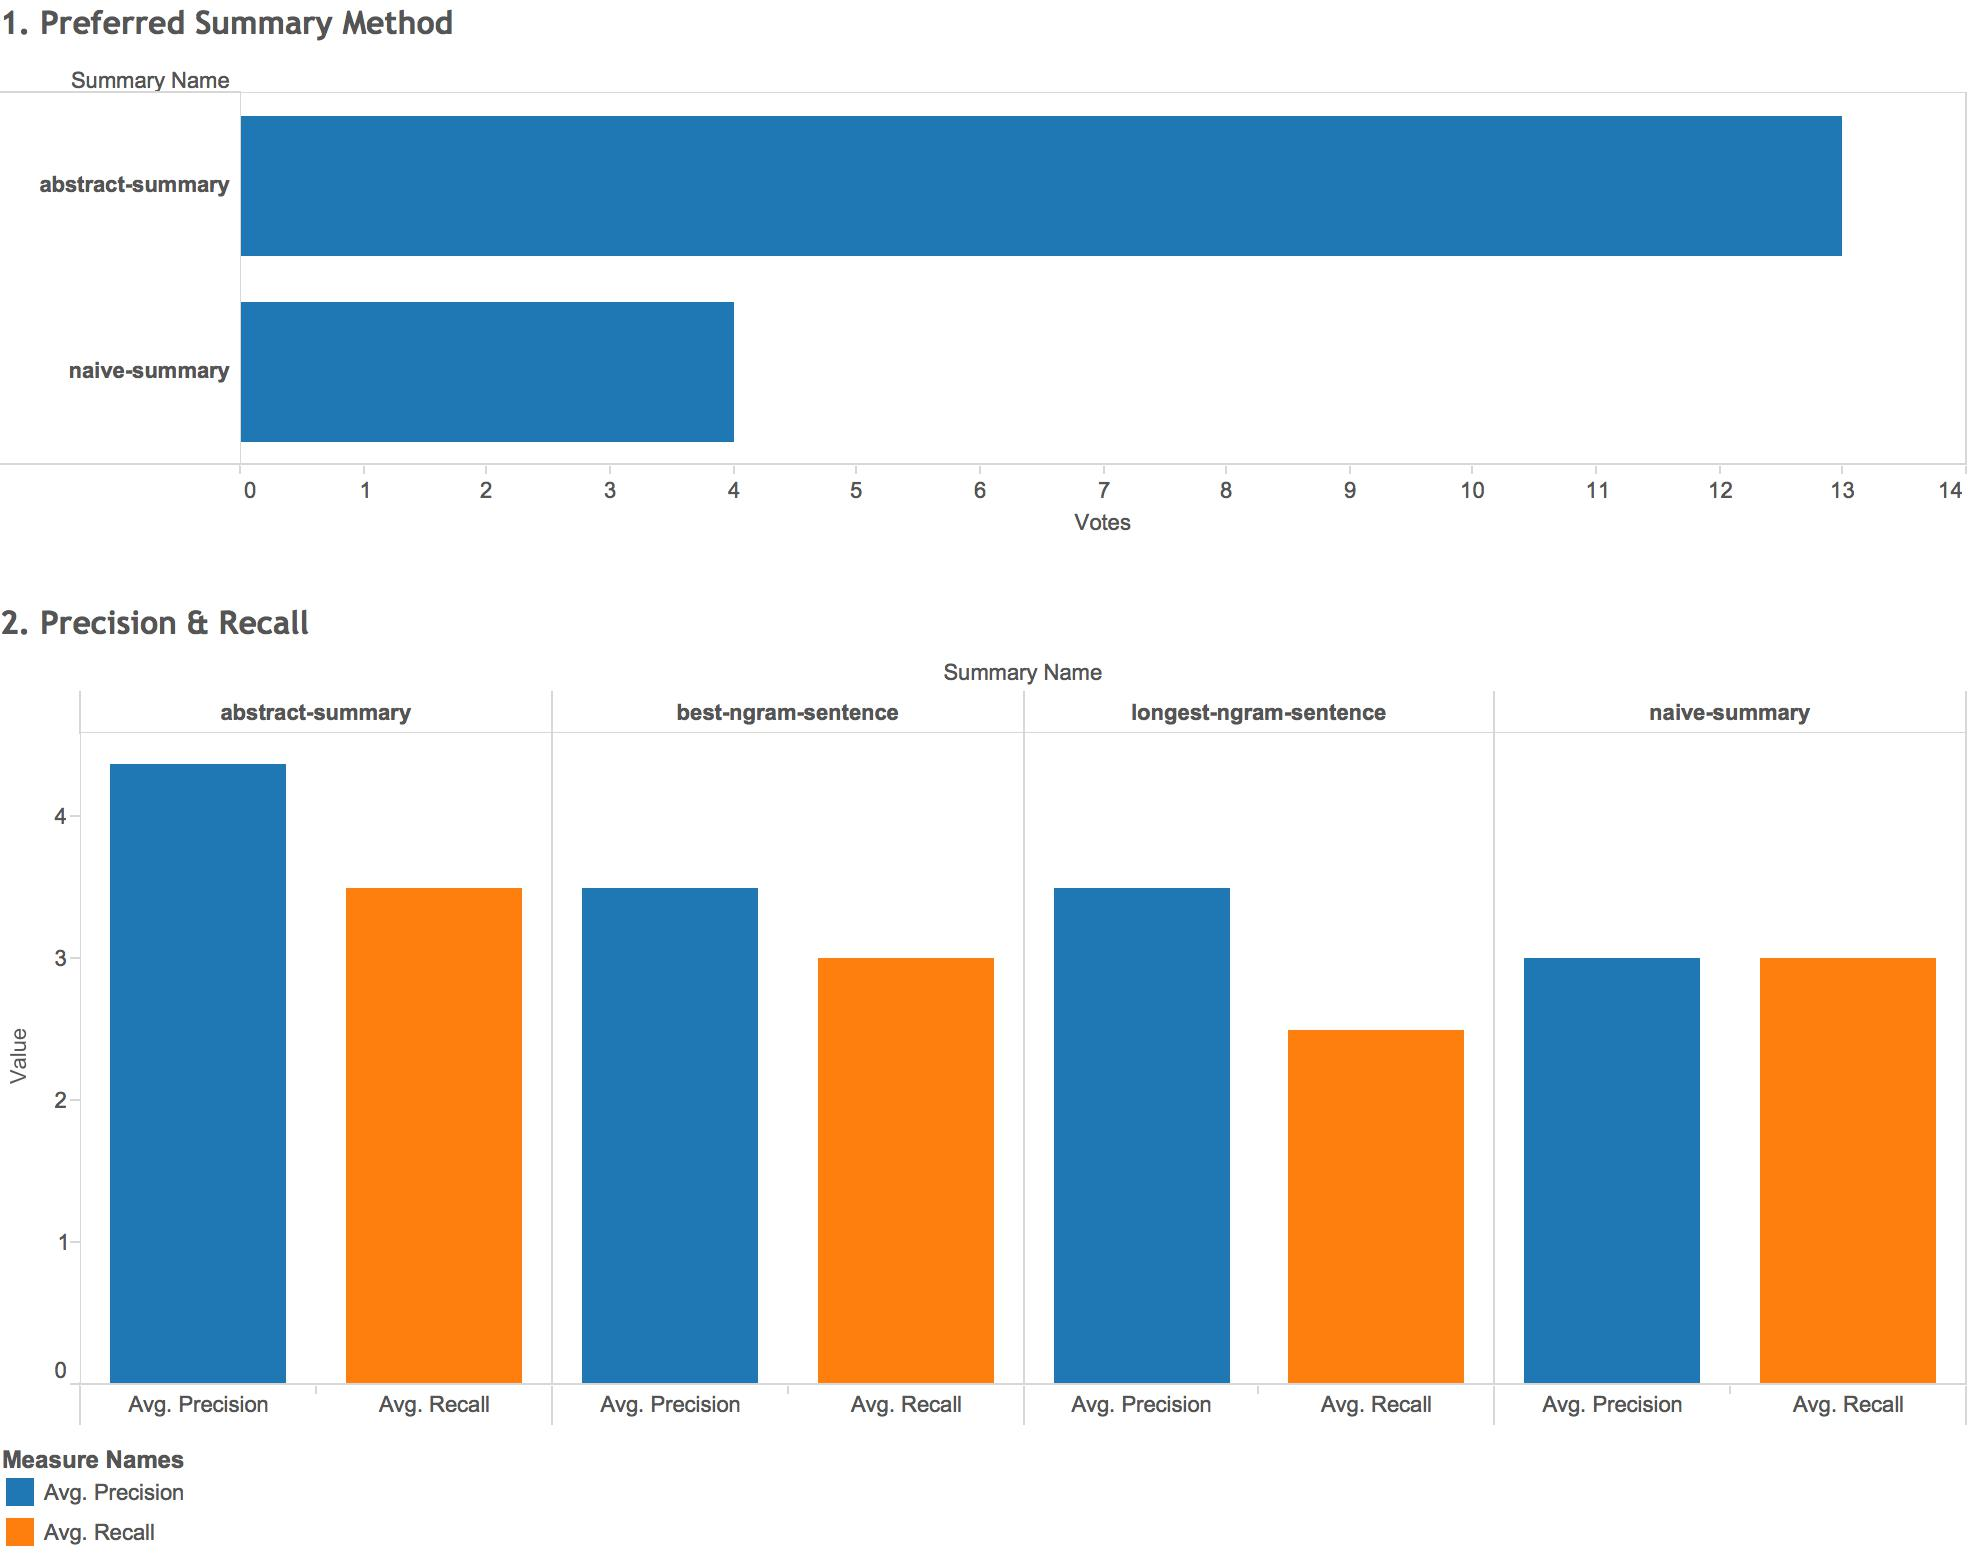

This screenshot's page, from the dashboard's own definition file:
{"tool":"tableau","page":{"name":"Dashboard 1","canvas":[1000,800],"ordinal":0},"visuals":[{"type":"worksheet","title":"Preferred Summary Method","mark":"Automatic","rows":["Summary Name"],"cols":["Votes"],"box":[0,0,996,304]},{"type":"worksheet","title":"Precision & Recall","mark":"Automatic","cols":["Summary Name"],"box":[0,304,996,421]},{"type":"legend","title":"Precision & Recall","param":"[textscan.42079.844892638900].[:Measure Names]","box":[0,725,996,75]}]}

Visuals, with their boxes in screenshot pixels (x1, y1, x2, y2), scaled from the page's 1000x800 canvas onto the 1968x1568 screenshot:
"Preferred Summary Method" worksheet: (x1=0, y1=0, x2=1960, y2=596)
"Precision & Recall" worksheet: (x1=0, y1=596, x2=1960, y2=1421)
"Precision & Recall" legend: (x1=0, y1=1421, x2=1960, y2=1567)
